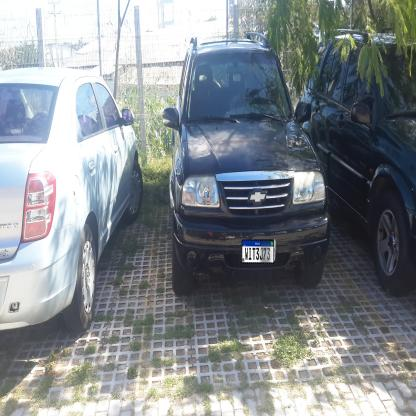PlacaM: (242, 240, 274, 264)
